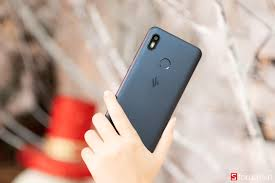vsmart: (115, 23, 202, 149)
